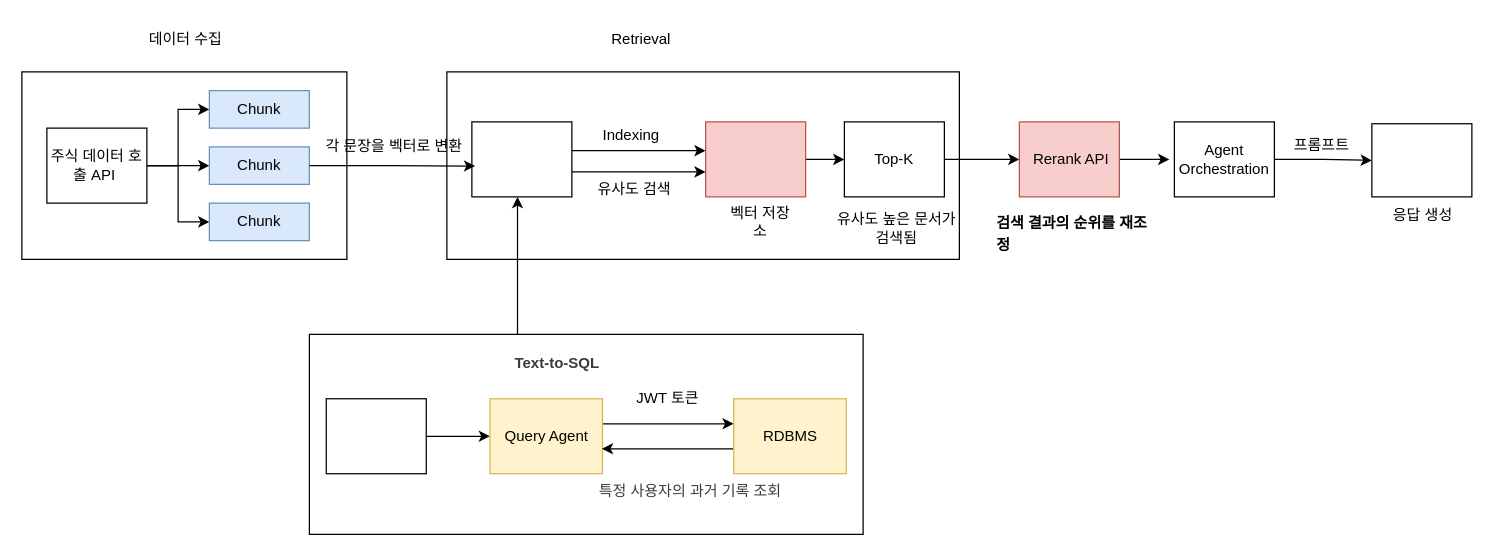
This 1494x556 diagram has some shape labels left out. The centre of each missing label's shape, as x and y in pixels:
ChromaDB: (x=755, y=159)
Embedding API: (x=521, y=159)
LLM: (x=1421, y=159)
UserText: (x=375, y=436)
